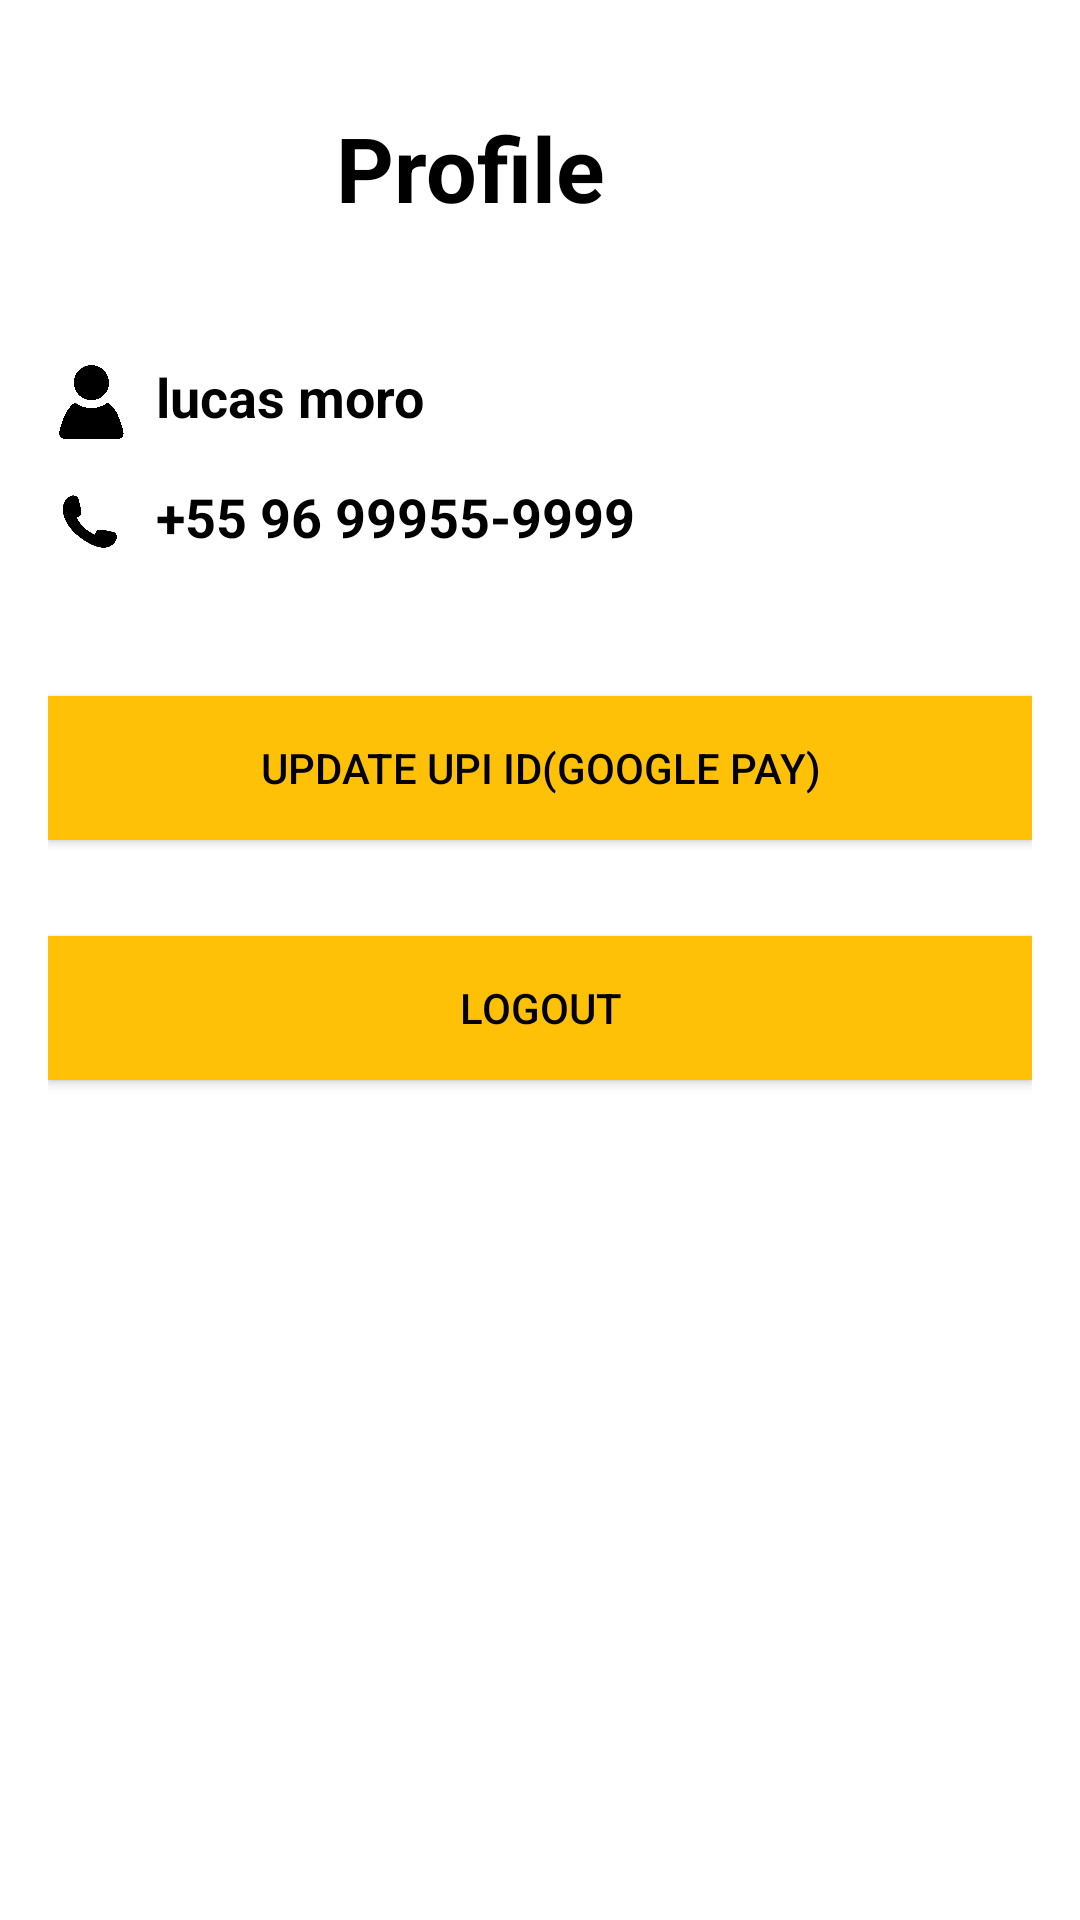

Icon click points for this 1080 × 1920 phone screenshot, format (x,y):
Name Icon: (91,402)
Phone Icon: (90,521)
